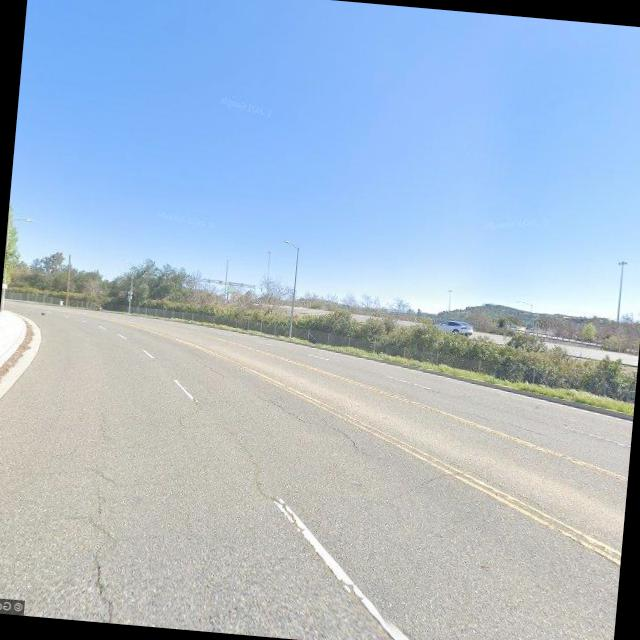pothole: (239, 469, 422, 640), (252, 384, 384, 458), (68, 472, 132, 620)
